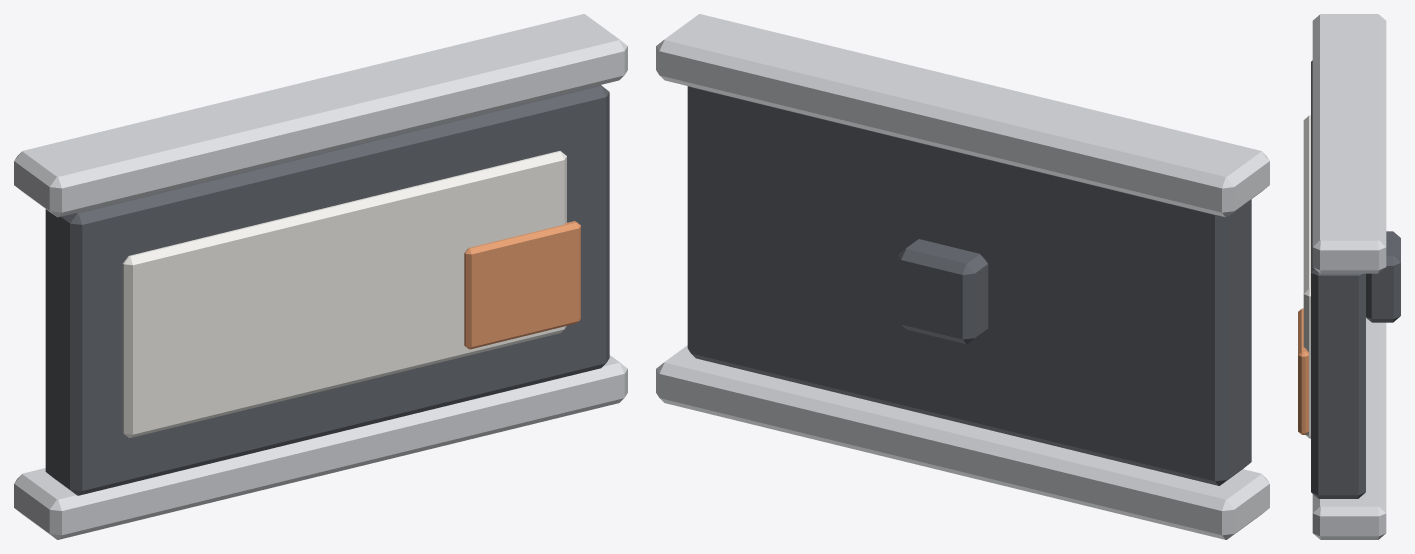
The model's file is downtown-office-interiors-meeting-room-sign-c8943020__17060.glb.
3 views of the same model, side by side, from view 1: azimuth 30°, elevation 25°; view 2: azimuth 150°, elevation 25°; view 3: azimuth 270°, elevation 25° (orthographic). The views are drawn at different scales.
Parts seen in each view (by area): view 1: meeting-room-sign; view 2: meeting-room-sign; view 3: meeting-room-sign.
Boxes of the visible parts, bbox=[...] form: meeting-room-sign: bbox=[14, 14, 627, 539]; meeting-room-sign: bbox=[656, 14, 1269, 539]; meeting-room-sign: bbox=[1298, 14, 1400, 539].
Size of the model in its own units: 0.3 by 0.18 by 0.056.
